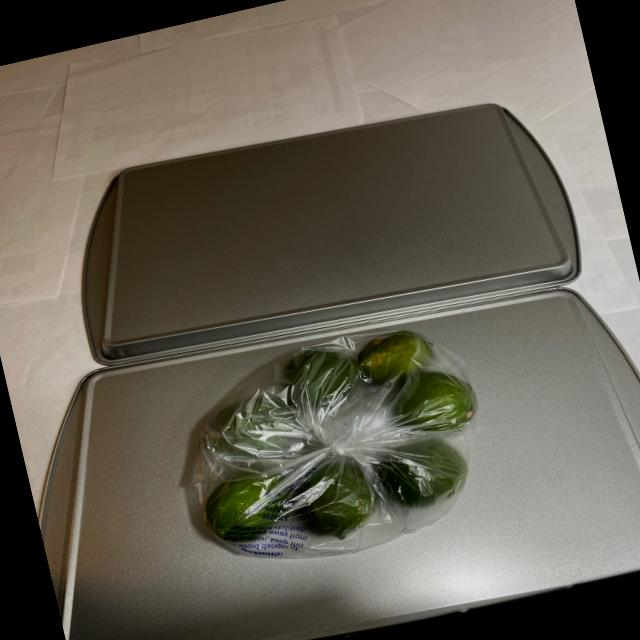lemon: (177, 316, 492, 558)
